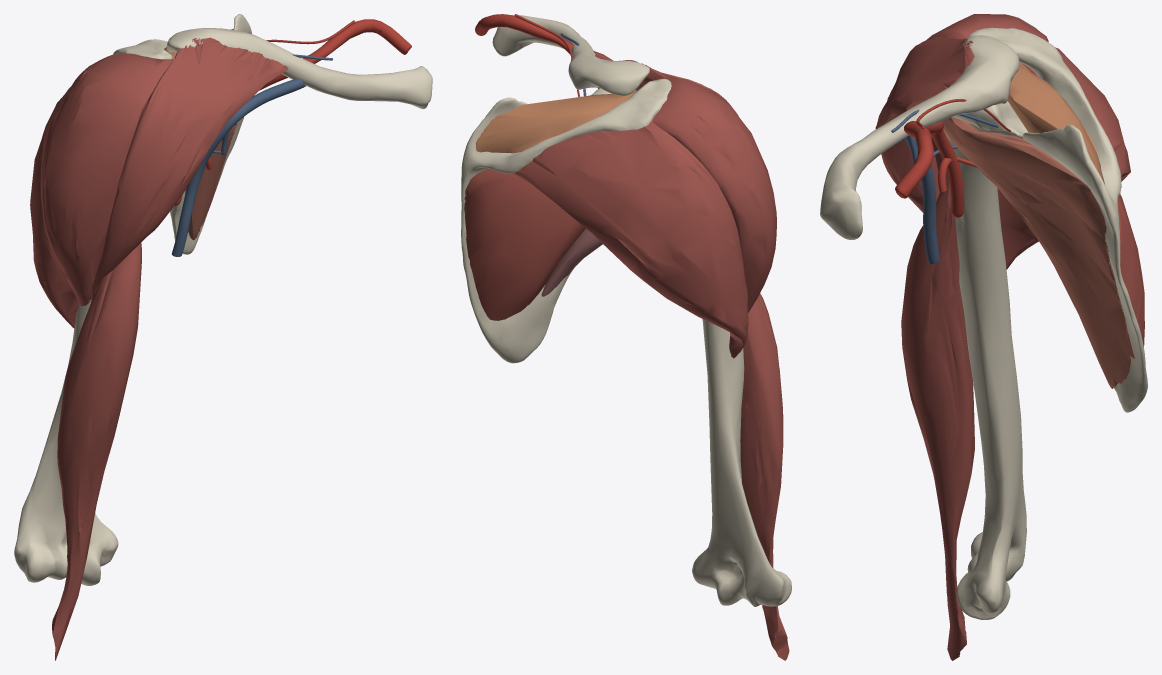
The model's file is shoulder-lod2.glb.
The picture shows the model from 3 angles, left to right: view 1: azimuth 30°, elevation 25°; view 2: azimuth 150°, elevation 25°; view 3: azimuth 270°, elevation 25°; orthographic projection. The views are drawn at different scales.
Visible parts, largest first — view 1: FJ1468, FJ1467, FJ1478, FJ3368, FJ3362, FJ1513, FJ2269, FJ3384, FJ1504, FJ3579; view 2: FJ1513, FJ3368, FJ1500, FJ1467, FJ3384, FJ1478, FJ1506, FJ3362, FJ1508, FJ3579, FJ1468; view 3: FJ3368, FJ1478, FJ1504, FJ3384, FJ3362, FJ1468, FJ1506, FJ1513, FJ1500, FJ1467, FJ3579, FJ2268 (+1 smaller).
Boxes of the visible parts, x1,y1,x2,y2 form: FJ1468: (91, 37, 288, 301); FJ1467: (41, 53, 173, 305); FJ1478: (52, 243, 141, 660); FJ3368: (14, 299, 118, 585); FJ3362: (166, 28, 432, 109); FJ1513: (30, 54, 112, 328); FJ2269: (172, 79, 305, 256); FJ3384: (113, 14, 251, 254); FJ1504: (185, 121, 238, 240); FJ3579: (303, 19, 411, 63); FJ1513: (514, 120, 748, 358); FJ3368: (692, 319, 791, 606); FJ1500: (464, 168, 585, 320); FJ1467: (652, 77, 776, 312); FJ3384: (461, 78, 671, 363); FJ1478: (740, 293, 789, 660); FJ1506: (476, 92, 635, 153); FJ3362: (492, 15, 649, 95); FJ1508: (541, 229, 602, 296); FJ3579: (475, 14, 573, 54); FJ1468: (593, 50, 738, 116); FJ3368: (944, 131, 1026, 619); FJ1478: (901, 158, 974, 660); FJ1504: (943, 117, 1130, 388); FJ3384: (952, 27, 1147, 412); FJ3362: (820, 35, 1019, 239); FJ1468: (875, 36, 974, 212); FJ1506: (1007, 62, 1104, 184); FJ1513: (997, 47, 1130, 269); FJ1500: (1022, 63, 1144, 358); FJ1467: (927, 14, 1048, 170); FJ3579: (895, 121, 933, 198); FJ2268: (926, 121, 964, 217).
Size of the model in its own units: 2.31 by 3.61 by 1.52.
